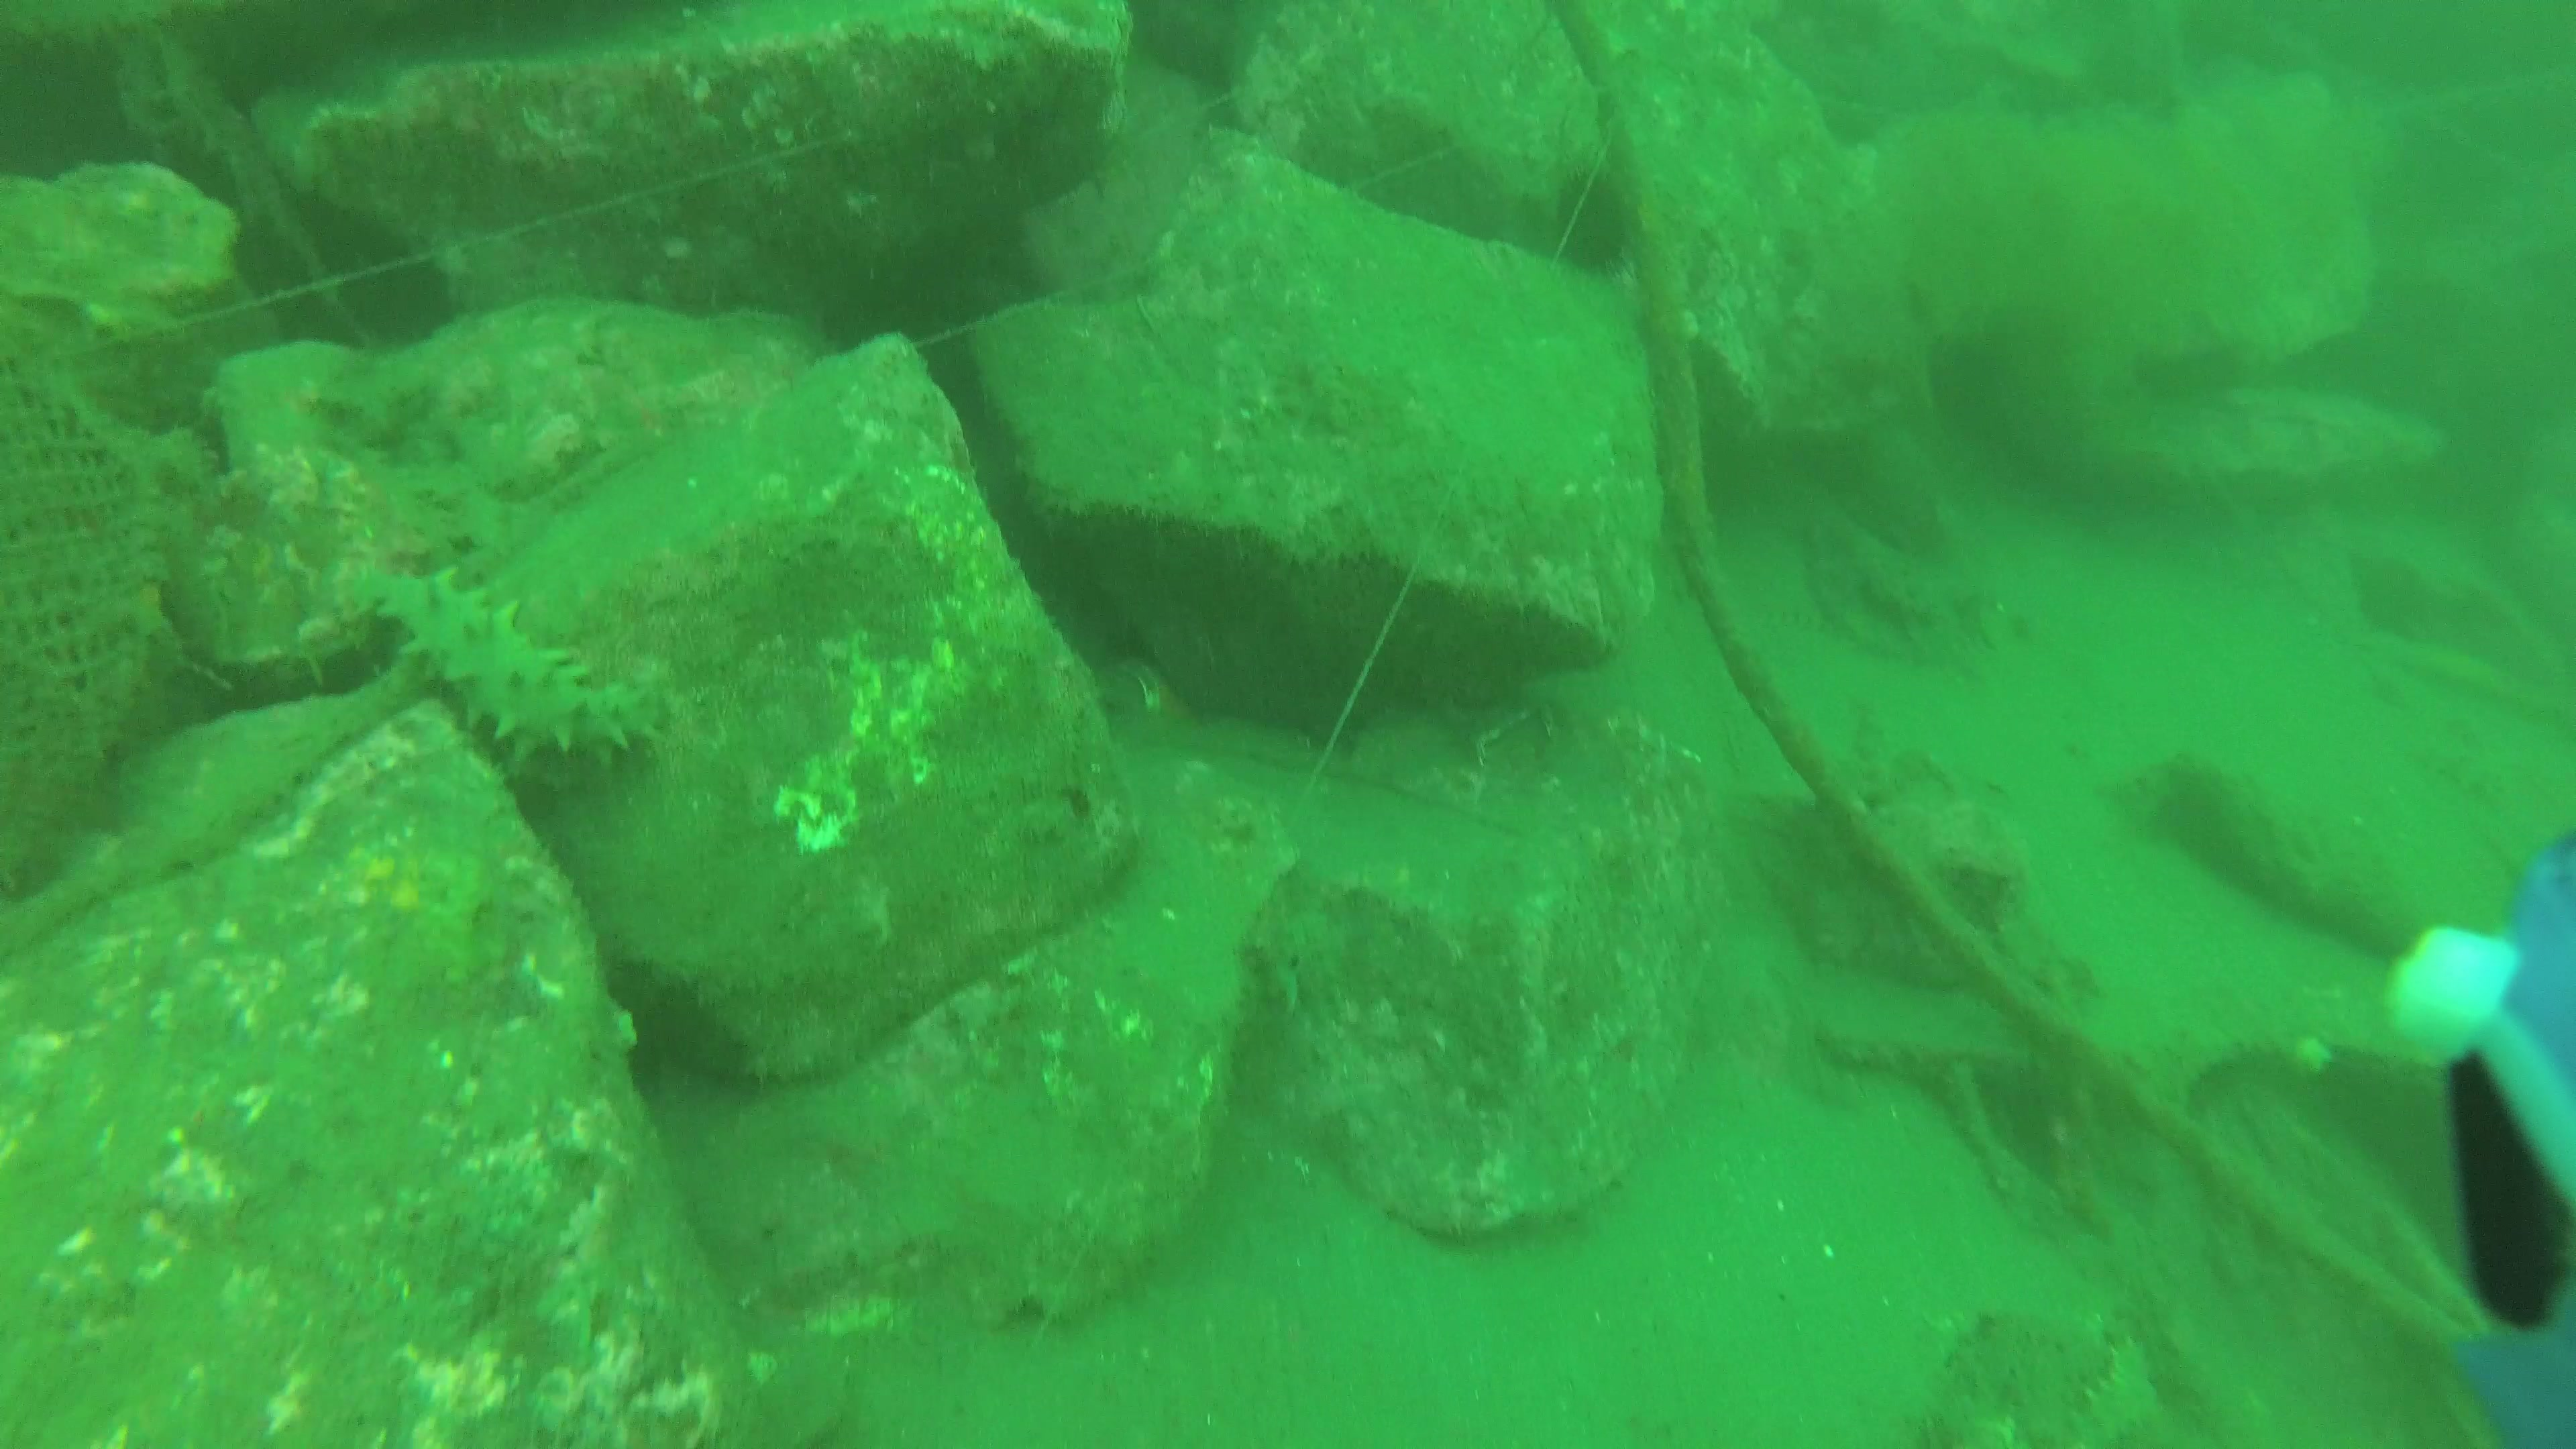holothurian: (352, 556, 669, 775)
